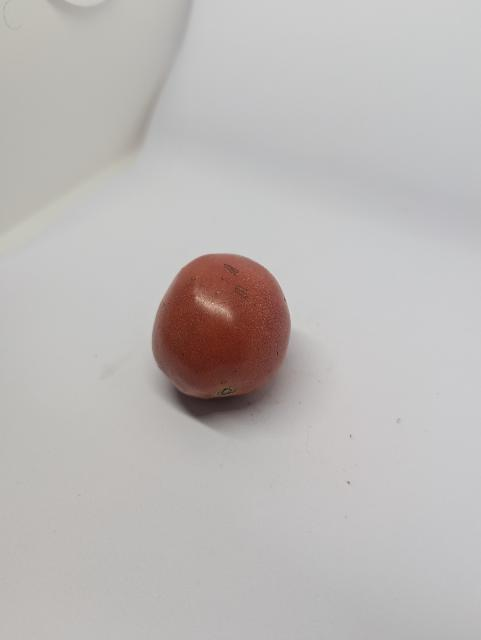red: (145, 240, 314, 415)
